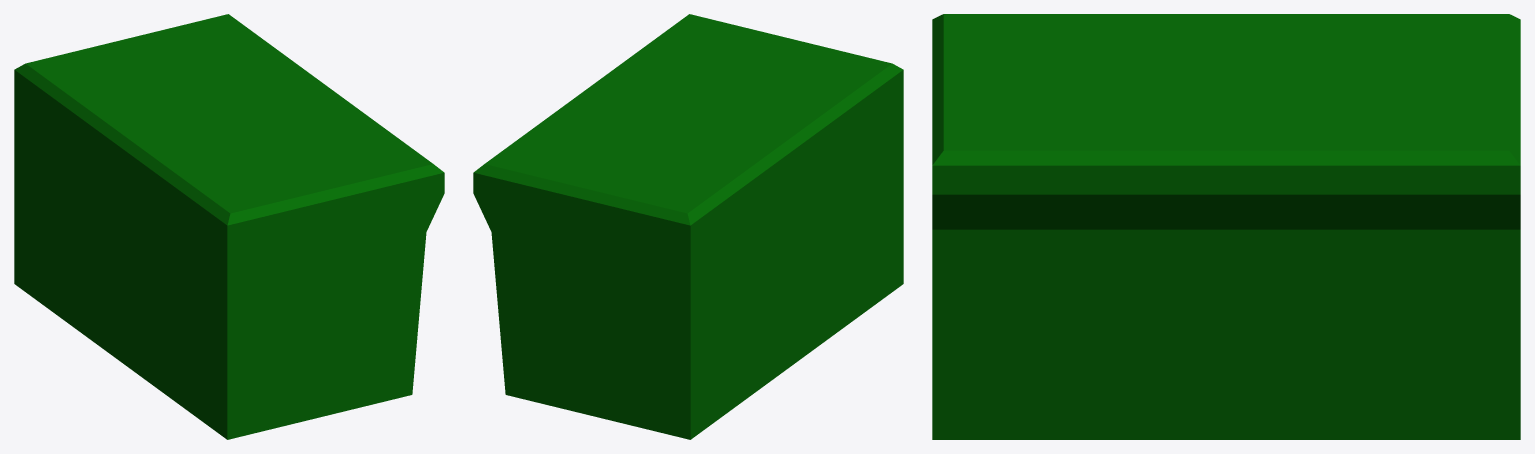
File: trash_bin.fbx
3 renders of one model, left to right at view 1: azimuth 30°, elevation 25°; view 2: azimuth 150°, elevation 25°; view 3: azimuth 270°, elevation 25°, orthographic. The views are drawn at different scales.
Visible parts, largest first — view 1: trash_bin2; view 2: trash_bin2; view 3: trash_bin2.
Part boxes in pixels (x1=…): trash_bin2: x1=14, y1=14, x2=444, y2=439; trash_bin2: x1=473, y1=14, x2=903, y2=439; trash_bin2: x1=932, y1=14, x2=1520, y2=439.
Size of the model in its own units: 153 by 149 by 259.
